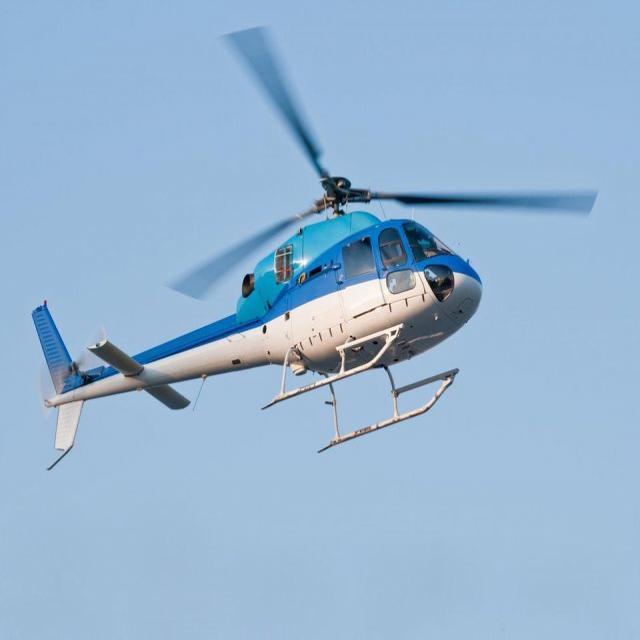helicopter: (33, 24, 599, 467)
